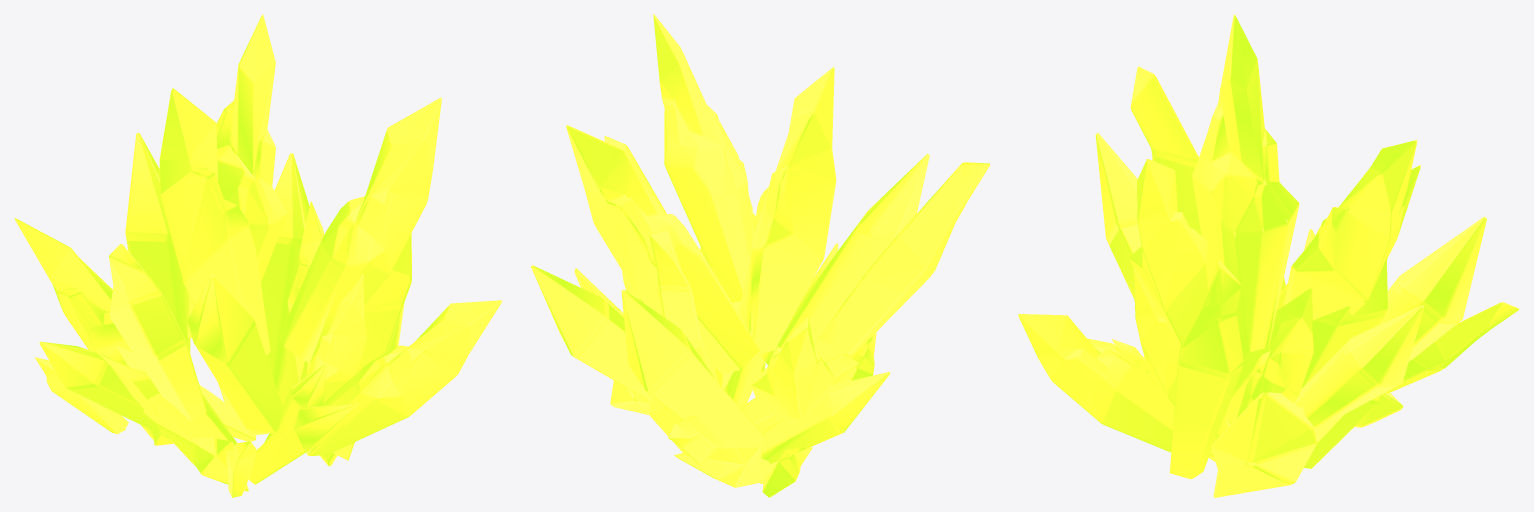
The model's file is 3-shuijing.FBX.
3 renders of one model, left to right at view 1: azimuth 30°, elevation 25°; view 2: azimuth 150°, elevation 25°; view 3: azimuth 270°, elevation 25°, orthographic. The views are drawn at different scales.
Parts seen in each view (by area): view 1: Object177; view 2: Object177; view 3: Object177.
Boxes of the visible parts, box(x1,y1,x2,y2) form: Object177: box(14, 14, 502, 497); Object177: box(531, 14, 989, 497); Object177: box(1018, 14, 1519, 497).
Size of the model in its own units: 0.5971 by 0.6483 by 0.7152.
